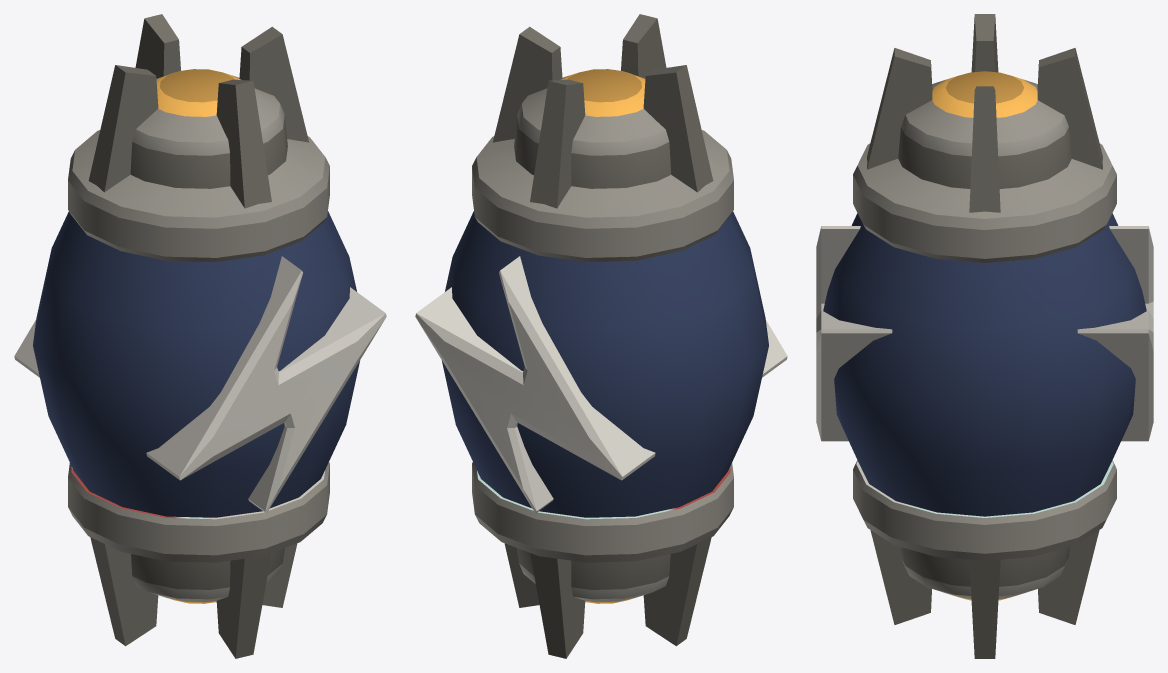
File: Emp.FBX
The picture shows the model from 3 angles, left to right: view 1: azimuth 30°, elevation 25°; view 2: azimuth 150°, elevation 25°; view 3: azimuth 270°, elevation 25°; orthographic projection.
Visible parts, largest first — view 1: Cylinder003; view 2: Cylinder003; view 3: Cylinder003.
Part boxes in pixels (x1,y1,x2,y2): Cylinder003: (14,14,386,658); Cylinder003: (415,14,787,658); Cylinder003: (816,14,1153,658).
Bounding box in the file's own units: 67.12 × 127 × 68.05.
